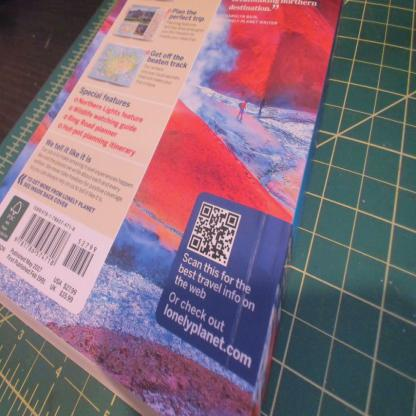barcode: (13, 210, 71, 270), (64, 235, 101, 278)
qr: (187, 203, 244, 267)
